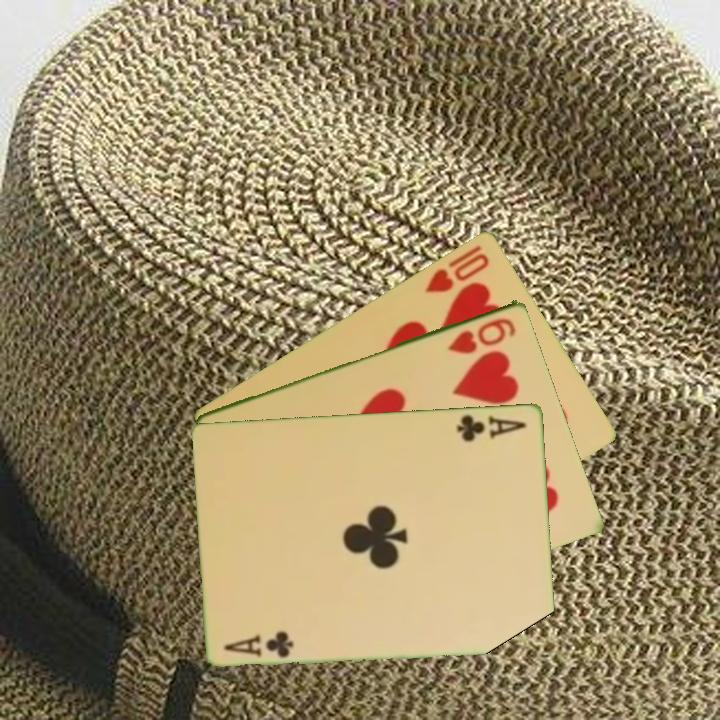10h: (421, 241, 492, 296)
6h: (444, 313, 519, 357)
Ac: (221, 627, 297, 660), (454, 411, 529, 444)
